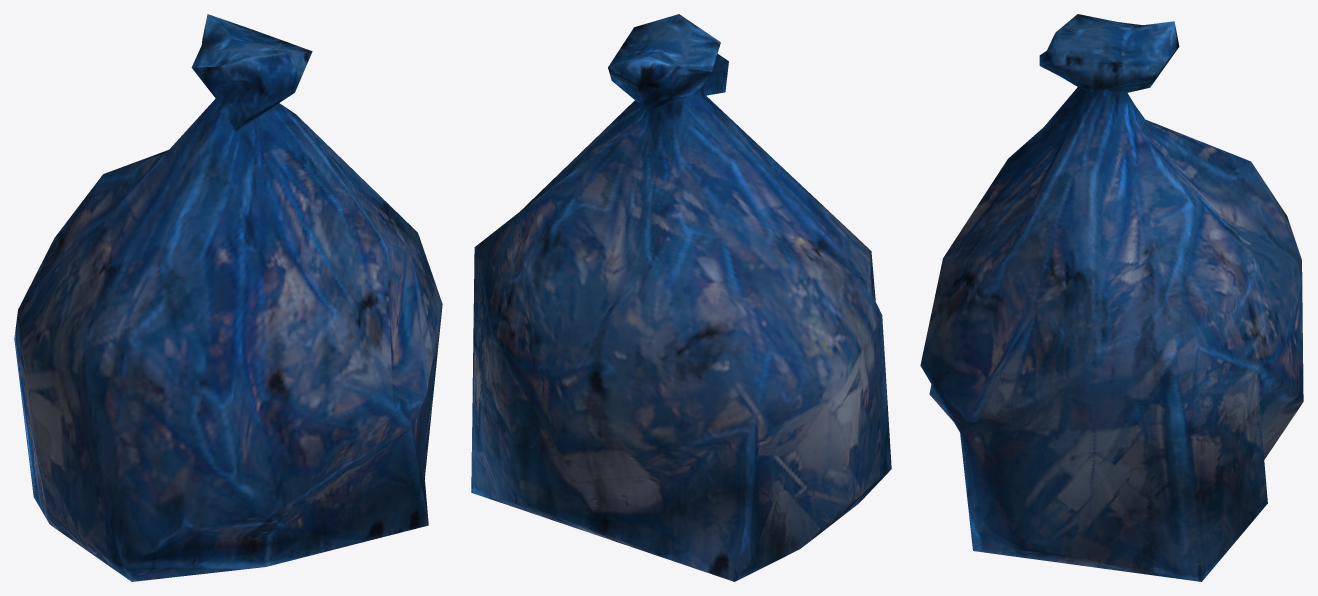
The model's file is CP_Trash_Bag_02.fbx.
3 renders of one model, left to right at view 1: azimuth 30°, elevation 25°; view 2: azimuth 150°, elevation 25°; view 3: azimuth 270°, elevation 25°, orthographic. The views are drawn at different scales.
Visible parts, largest first — view 1: CP_Trash_Bag_02_LOD0; view 2: CP_Trash_Bag_02_LOD0; view 3: CP_Trash_Bag_02_LOD0.
Boxes of the visible parts, x1,y1,x2,y2 form: CP_Trash_Bag_02_LOD0: (14,14,442,581); CP_Trash_Bag_02_LOD0: (471,14,891,581); CP_Trash_Bag_02_LOD0: (920,14,1303,581).
Size of what is drawn, in the model's own units: 68.16 by 83.05 by 59.88.
